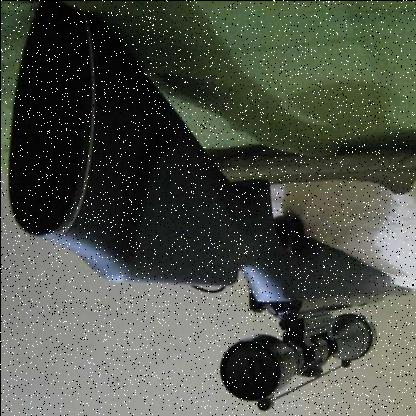rifle: (24, 1, 409, 415)
